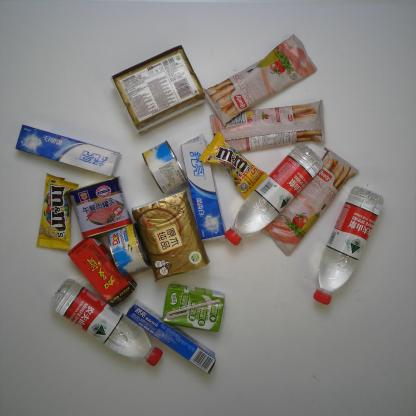Canned Food: (65, 175, 133, 239), (141, 138, 189, 196), (108, 222, 151, 278)
Chocolate: (199, 130, 269, 200), (35, 171, 80, 252)
Dessert: (257, 145, 360, 258), (202, 32, 319, 129), (208, 98, 326, 153)
Drink: (223, 142, 326, 248), (47, 278, 164, 368), (312, 187, 386, 306), (66, 235, 138, 308)
Milk: (162, 283, 226, 333)
Personal Hygiene: (126, 299, 216, 374), (14, 124, 124, 180), (179, 134, 228, 244)
Tissue: (112, 44, 206, 137), (130, 191, 210, 283)
